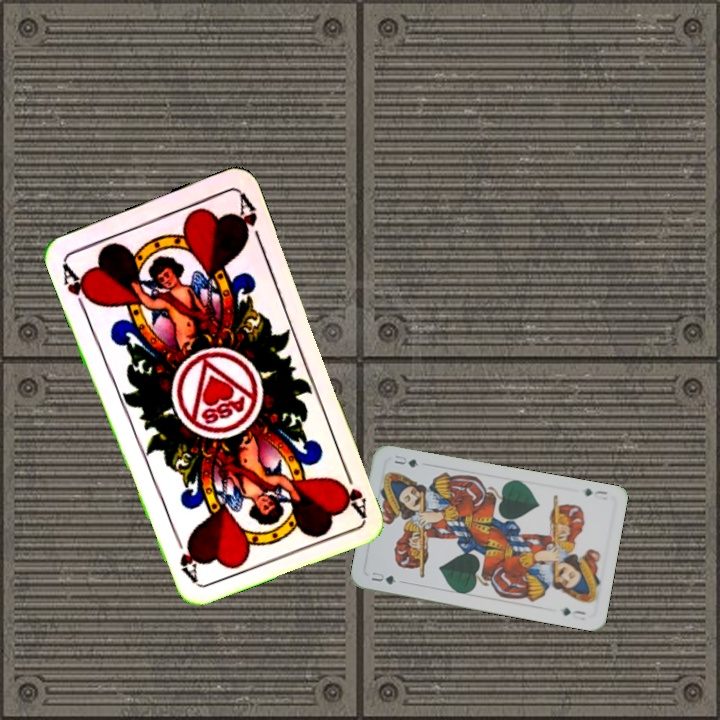GU: (367, 568, 399, 587), (580, 484, 610, 502)
HA: (58, 256, 97, 313), (333, 461, 369, 518)
